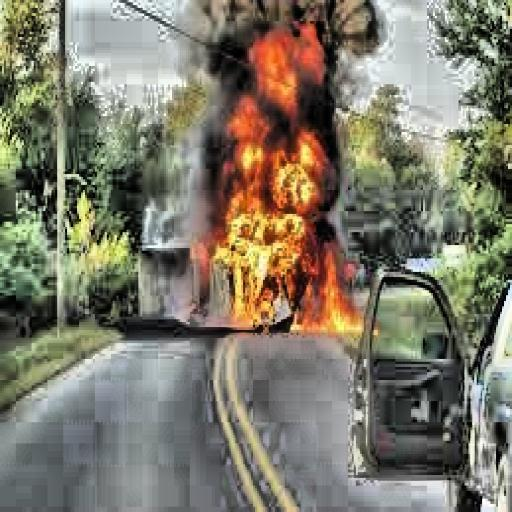fire: (206, 29, 366, 338)
